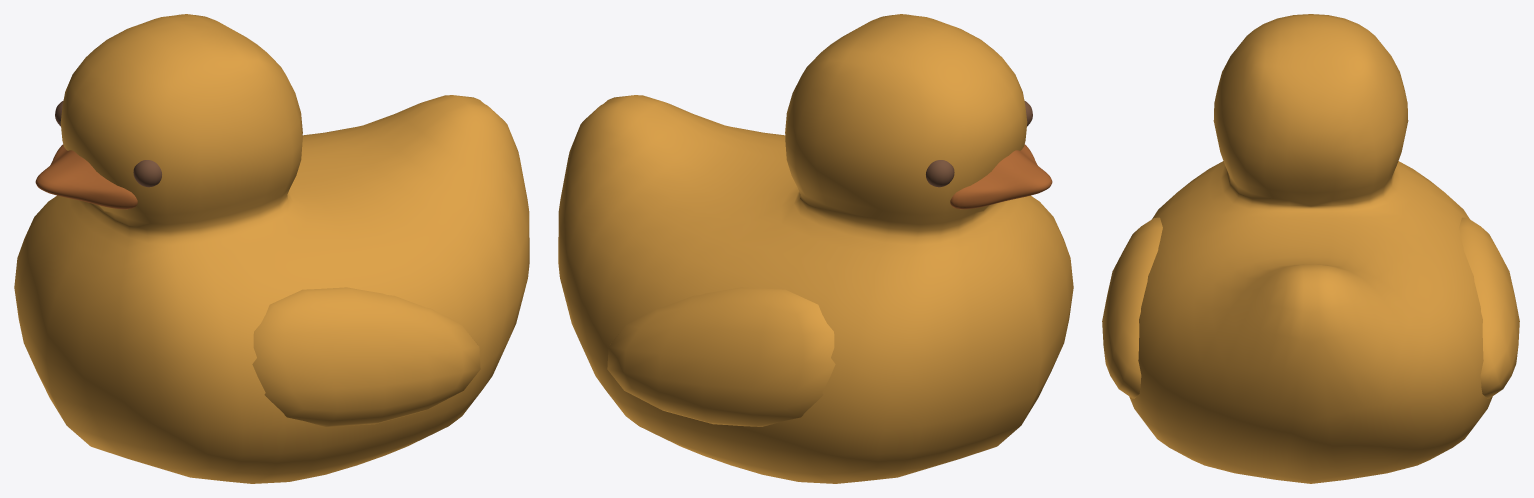
File: GiantRubberDuck.fbx
3 views of the same model, side by side, from view 1: azimuth 30°, elevation 25°; view 2: azimuth 150°, elevation 25°; view 3: azimuth 270°, elevation 25° (orthographic). The views are drawn at different scales.
Parts seen in each view (by area): view 1: Duck; view 2: Duck; view 3: Duck.
Boxes of the visible parts, x1,y1,x2,y2 form: Duck: [14, 14, 529, 483]; Duck: [558, 14, 1073, 483]; Duck: [1102, 14, 1519, 483].
Size of the model in its own units: 595 by 514 by 514.
